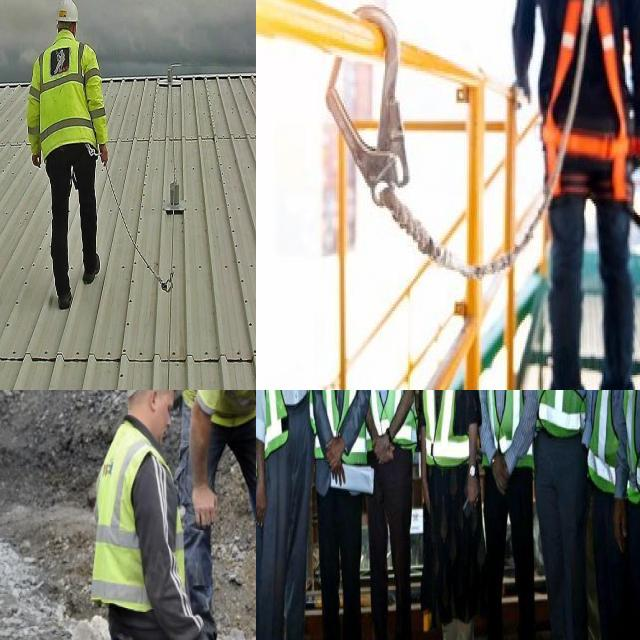Harness: (567, 0, 630, 200), (543, 0, 582, 174)
face_nomask: (148, 391, 178, 446)
hand_noglove: (189, 483, 221, 529), (491, 446, 512, 499), (614, 510, 630, 554), (325, 453, 348, 482), (376, 436, 394, 471), (421, 476, 434, 517), (327, 437, 341, 472), (467, 473, 480, 508), (256, 485, 267, 522)
head_helmet: (55, 0, 78, 22)
person: (96, 390, 220, 640), (26, 2, 112, 310), (181, 390, 256, 640), (308, 390, 367, 640), (363, 390, 422, 640), (530, 390, 587, 640), (256, 390, 312, 640), (416, 390, 472, 640), (477, 390, 532, 640), (584, 390, 637, 640)
shoes: (53, 274, 76, 316), (80, 250, 100, 287)
vest: (92, 422, 188, 606), (29, 33, 109, 157), (590, 390, 627, 489), (420, 390, 470, 461), (482, 390, 529, 457), (178, 390, 256, 425), (261, 390, 311, 437), (315, 390, 366, 435), (533, 390, 583, 429), (370, 390, 412, 429)
